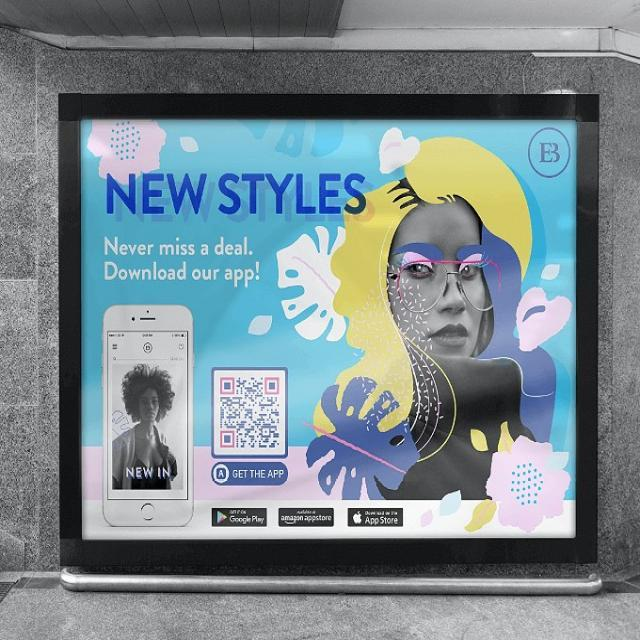qr_code: (219, 376, 280, 449)
